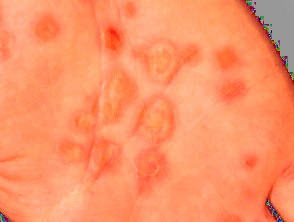SJS-TEN: (0, 0, 269, 222)
